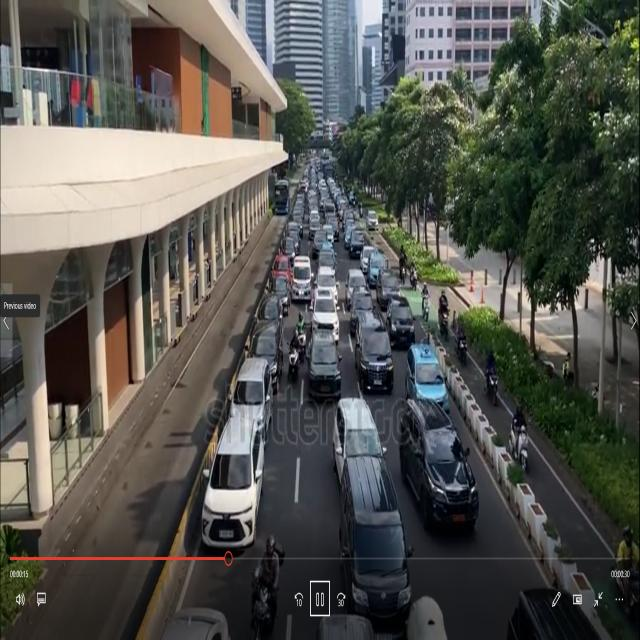Ambulance: (288, 248, 314, 312)
